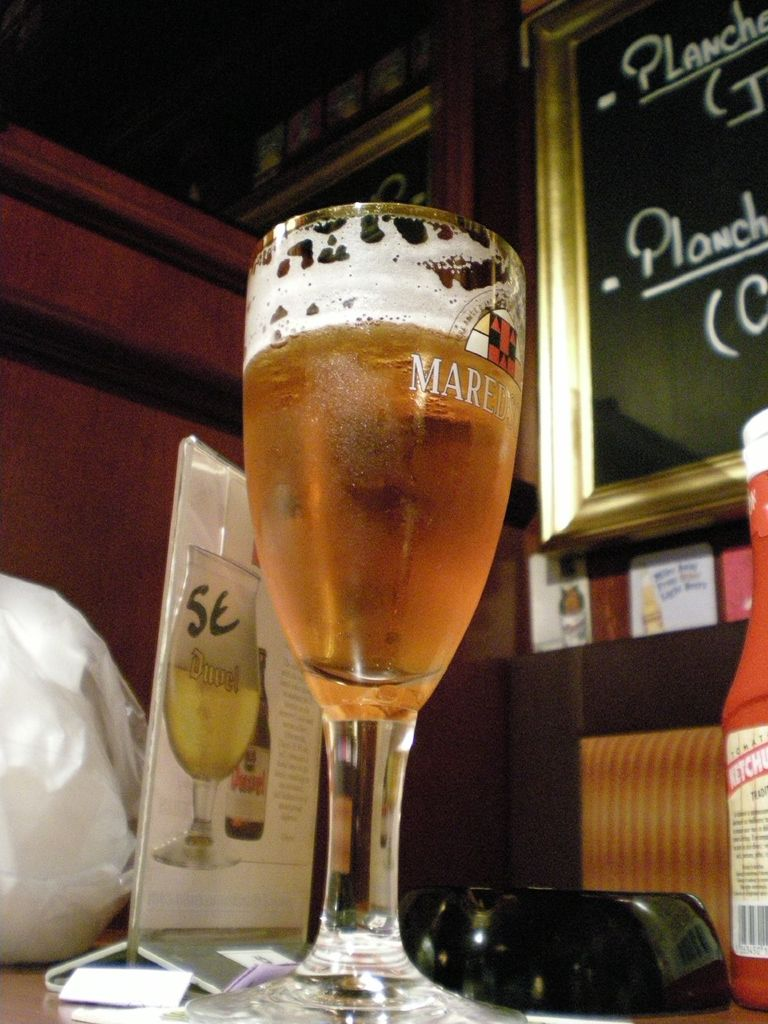Beer: (240, 297, 514, 714)
